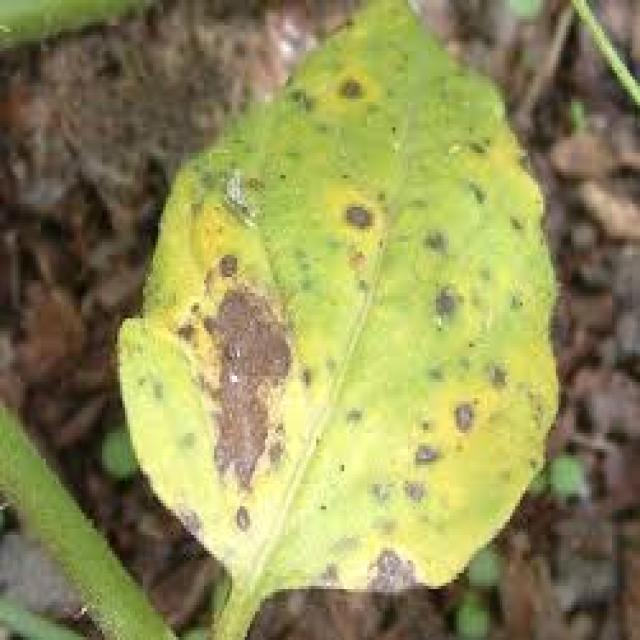black-spot: (238, 292, 368, 503)
